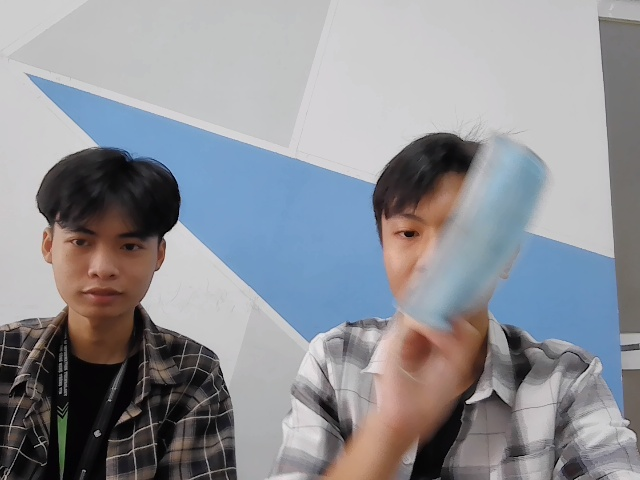human: (32, 143, 184, 323)
